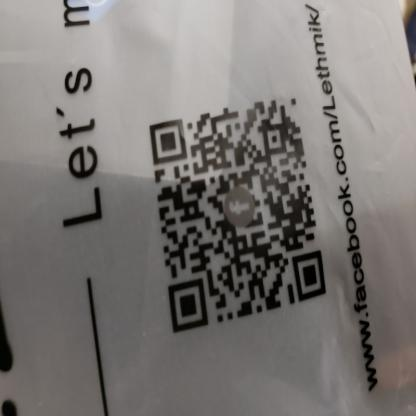qr: (142, 91, 336, 338)
